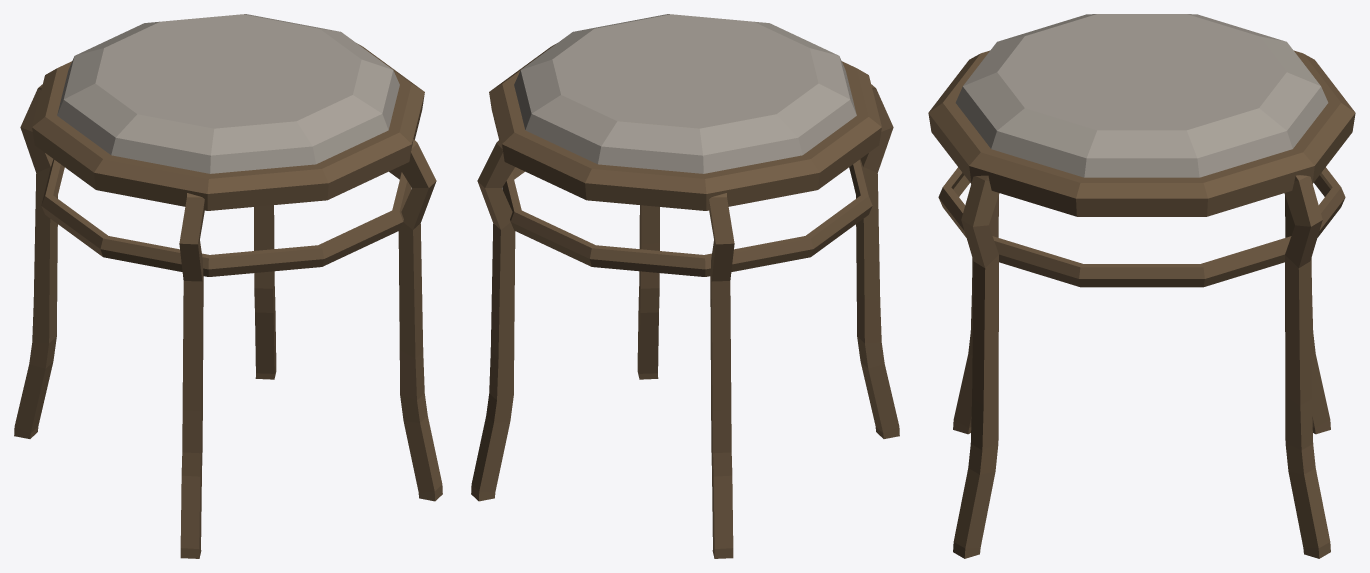
File: torch_wall.glb
3 renders of one model, left to right at view 1: azimuth 30°, elevation 25°; view 2: azimuth 150°, elevation 25°; view 3: azimuth 270°, elevation 25°, orthographic. The views are drawn at different scales.
Visible parts, largest first — view 1: Stool_Cylinder.001; view 2: Stool_Cylinder.001; view 3: Stool_Cylinder.001.
Part boxes in pixels (x1=…): Stool_Cylinder.001: x1=14, y1=14, x2=442, y2=558; Stool_Cylinder.001: x1=471, y1=14, x2=899, y2=558; Stool_Cylinder.001: x1=928, y1=14, x2=1355, y2=558.
Bounding box in the file's own units: 0.5072 × 0.5768 × 0.5334.
